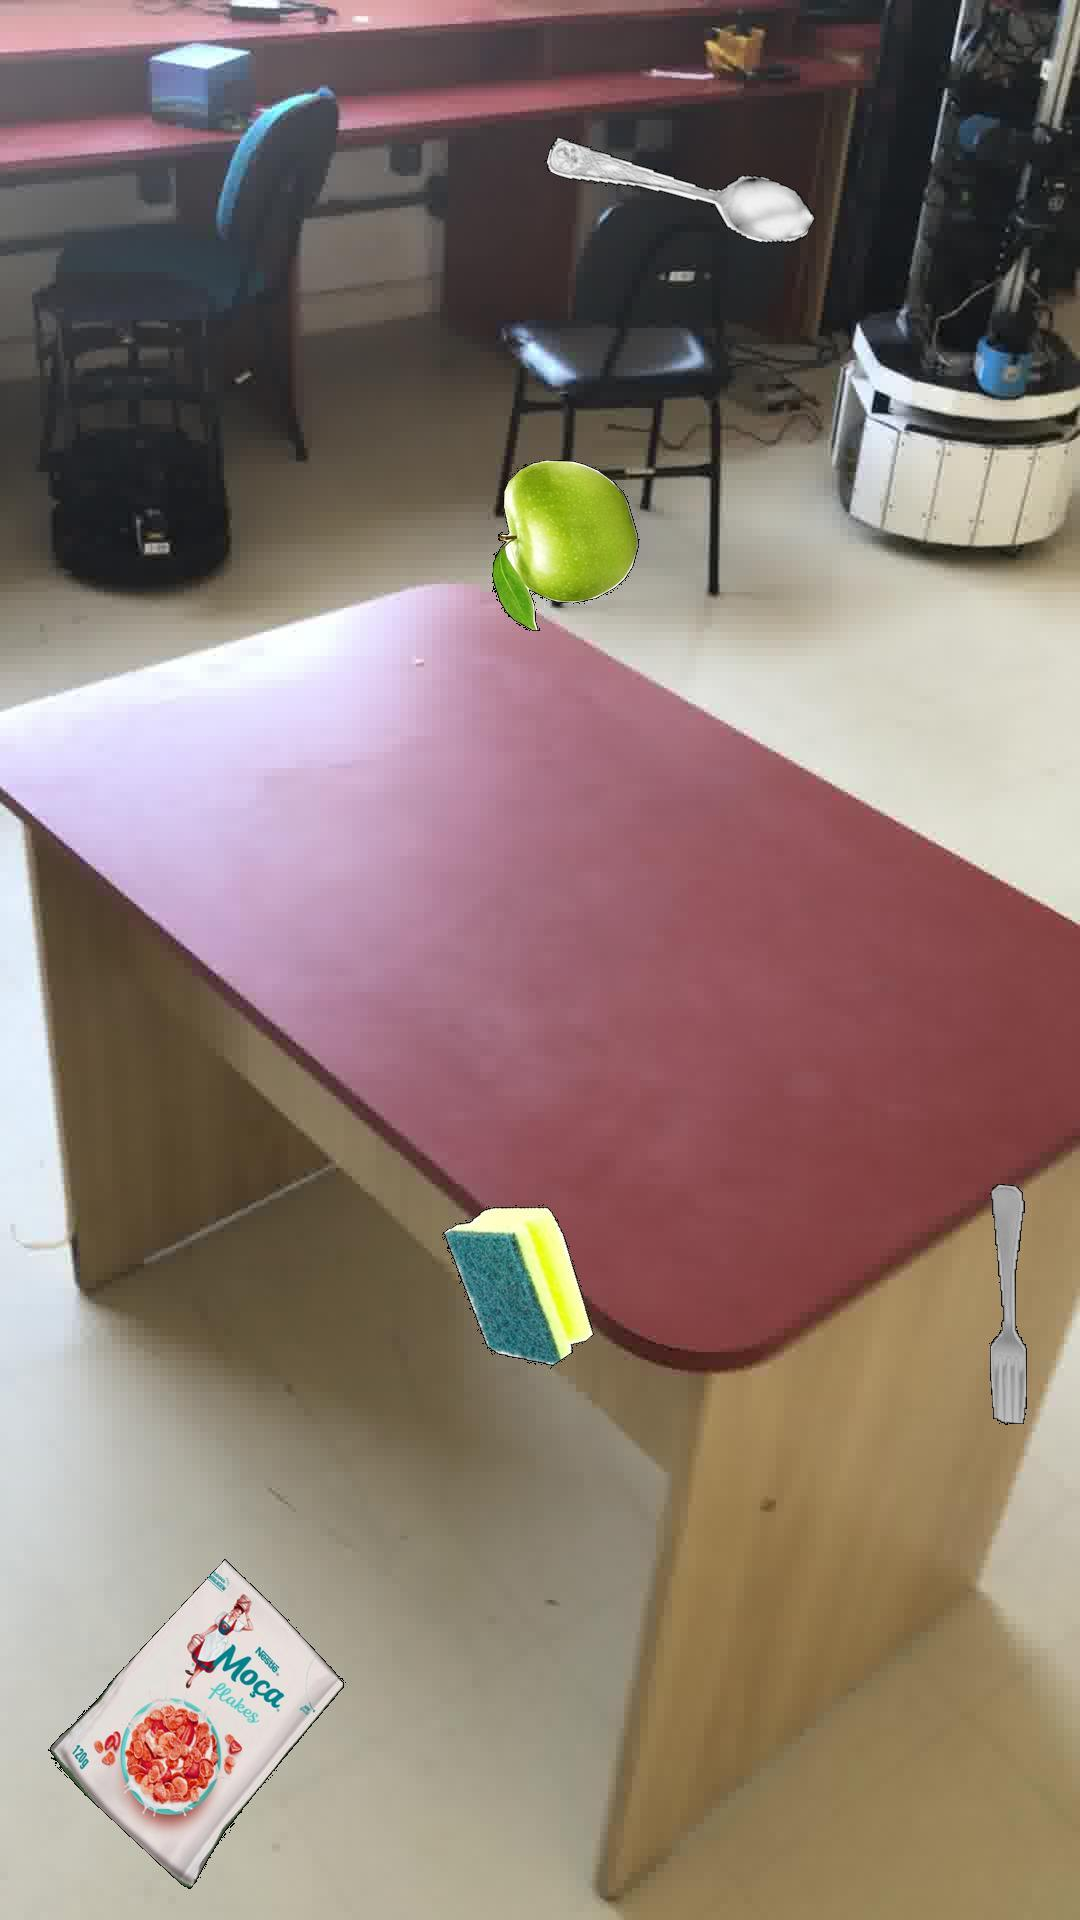corn flakes: (46, 1557, 343, 1887)
fork: (989, 1183, 1026, 1423)
green apple: (491, 459, 638, 629)
sponge: (442, 1205, 592, 1365)
spoon: (543, 136, 814, 243)
